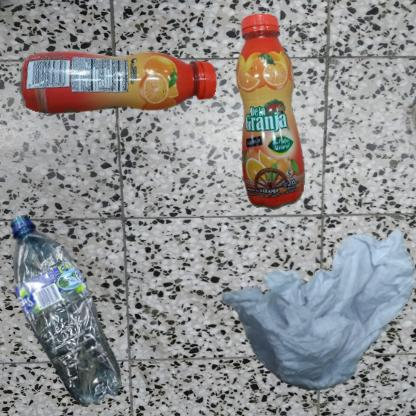botella: (10, 10, 259, 183), (213, 10, 340, 233), (10, 213, 123, 409)
papel: (213, 213, 416, 401)
